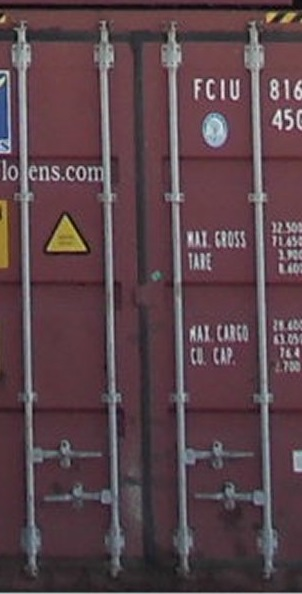container_door: (7, 6, 296, 586)
